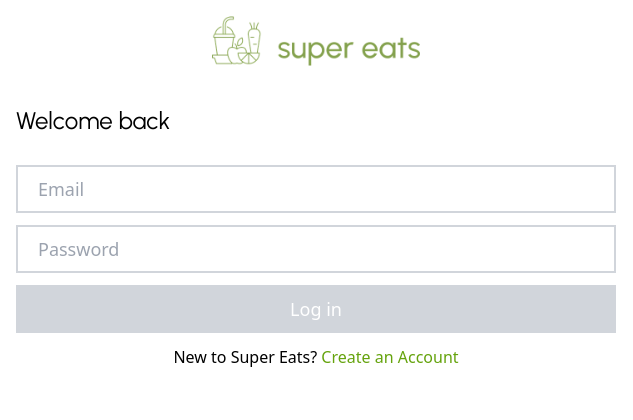
Test: <Login/> › should display password validation error
The image size is (633, 420).
Type "123" into the password field with placeholder "Password".
click(316, 249); type("123")  # box [16,225,616,273]
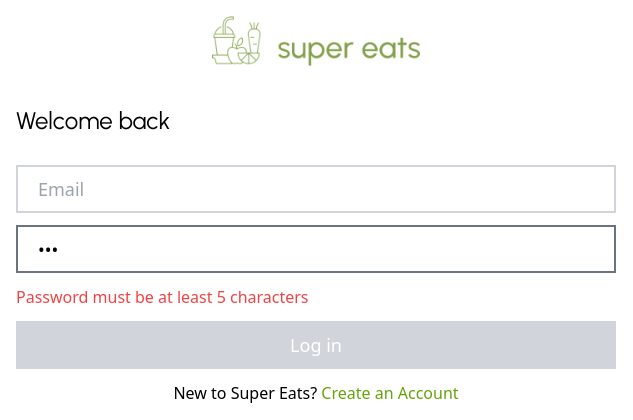
Check: the message reads "Password must be at least 5 characters", box [16,286,308,308]
Clear the password field with placeholder "Password" at coordinates (316, 249), box [16,225,616,273]
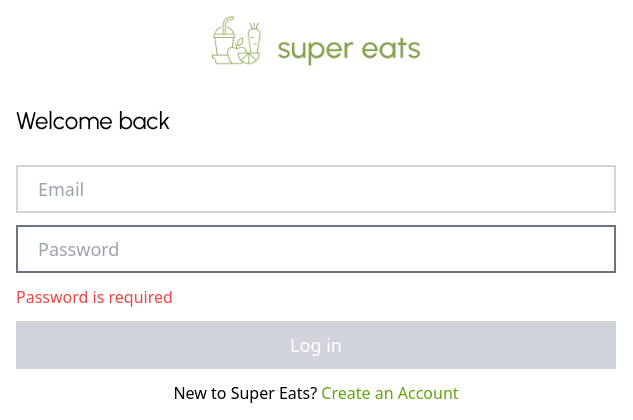
Check: the message reads "Password is required", box [16,286,173,308]
